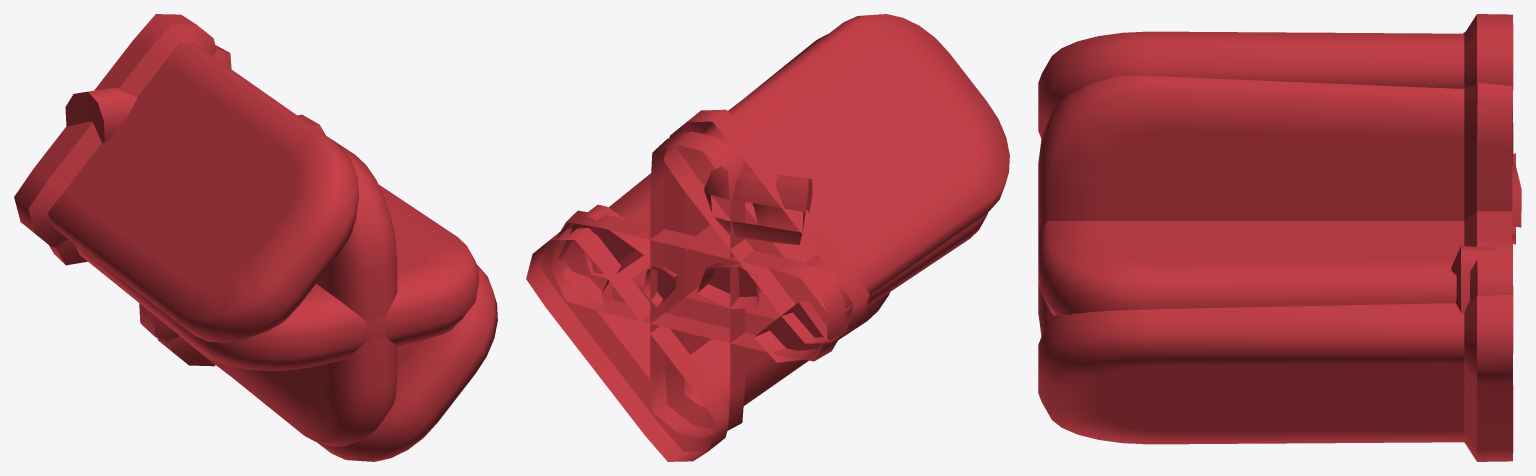
The model's file is airhockey_fence_geo.glb.
3 views of the same model, side by side, from view 1: azimuth 30°, elevation 25°; view 2: azimuth 150°, elevation 25°; view 3: azimuth 270°, elevation 25° (orthographic). The views are drawn at different scales.
Visible parts, largest first — view 1: wooden_fence_inner_corner, wooden_fence_a, wooden_fence_end_inner, wooden_fence_outer_corner, wooden_fence_end_outer, wooden_fence_destroyed, wooden_fence_b; view 2: wooden_fence_inner_corner, wooden_fence_outer_corner, wooden_fence_end_inner, wooden_fence_destroyed, wooden_fence_a, wooden_fence_b, wooden_fence_end_outer; view 3: wooden_fence_outer_corner, wooden_fence_end_outer, wooden_fence_a, wooden_fence_inner_corner, wooden_fence_b, wooden_fence_end_inner, wooden_fence_destroyed.
Boxes of the visible parts, x1,y1,x2,y2 form: wooden_fence_inner_corner: (14,14,358,342); wooden_fence_a: (52,114,478,371); wooden_fence_end_inner: (150,45,385,446); wooden_fence_outer_corner: (157,264,497,461); wooden_fence_end_outer: (139,48,397,446); wooden_fence_destroyed: (65,87,137,143); wooden_fence_b: (49,114,466,325); wooden_fence_inner_corner: (663,14,1009,343); wooden_fence_outer_corner: (526,228,808,461); wooden_fence_end_inner: (650,128,889,438); wooden_fence_destroyed: (558,166,828,362); wooden_fence_a: (552,173,988,360); wooden_fence_b: (553,173,841,361); wooden_fence_end_outer: (650,34,827,432); wooden_fence_outer_corner: (1038,285,1513,461); wooden_fence_end_outer: (1038,76,1512,336); wooden_fence_a: (1038,142,1513,315); wooden_fence_inner_corner: (1038,14,1513,163); wooden_fence_b: (1039,133,1513,304); wooden_fence_end_inner: (1038,76,1513,417); wooden_fence_destroyed: (1451,32,1521,314).
Size of the model in its own units: 1.16 by 1.19 by 1.23.
